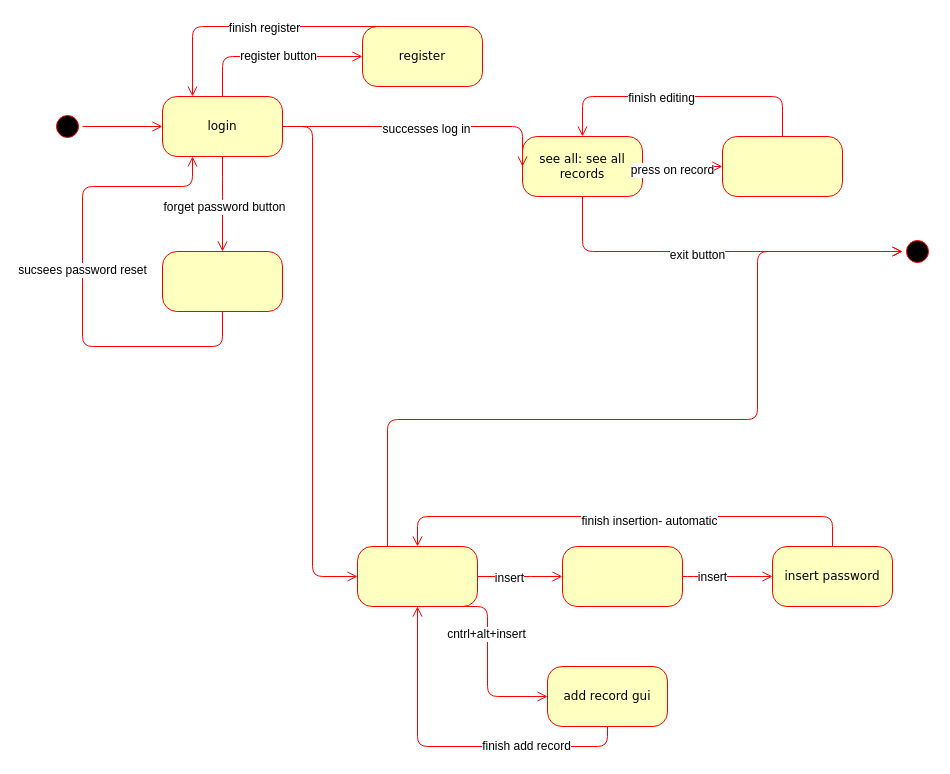
Some shapes in this 950 by 774 pixel diagram are drawn without their labels. The shapes that lost their labels are listed below. From the top down, each one's centre as x and y in pixels, then its label:
(782,166): edit record gui
(222,281): forget password
(417,576): key logger
(622,576): insert username
